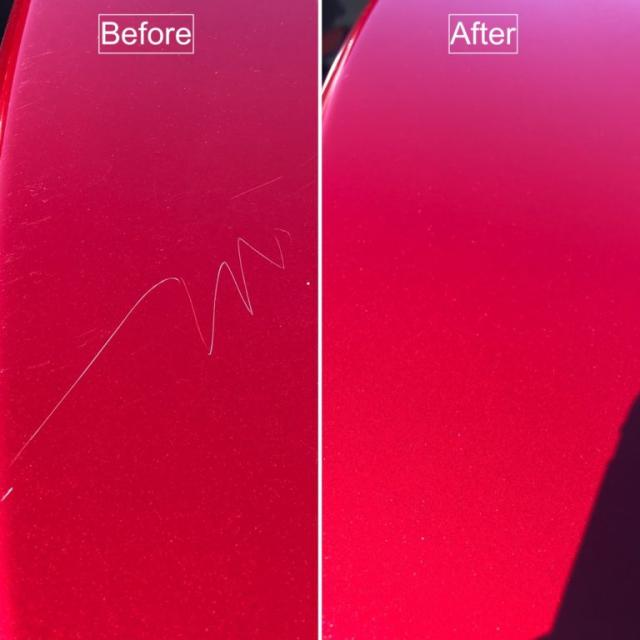scratch: (7, 225, 294, 472), (0, 483, 17, 504)
